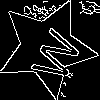W: (22, 23, 84, 85)
